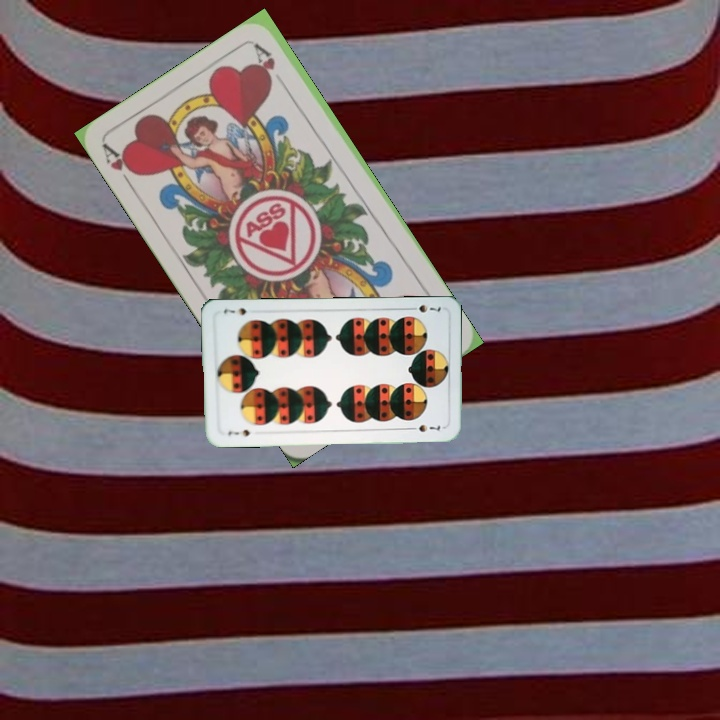HA: (98, 141, 142, 194)
S7: (404, 301, 443, 315), (224, 425, 252, 439)
